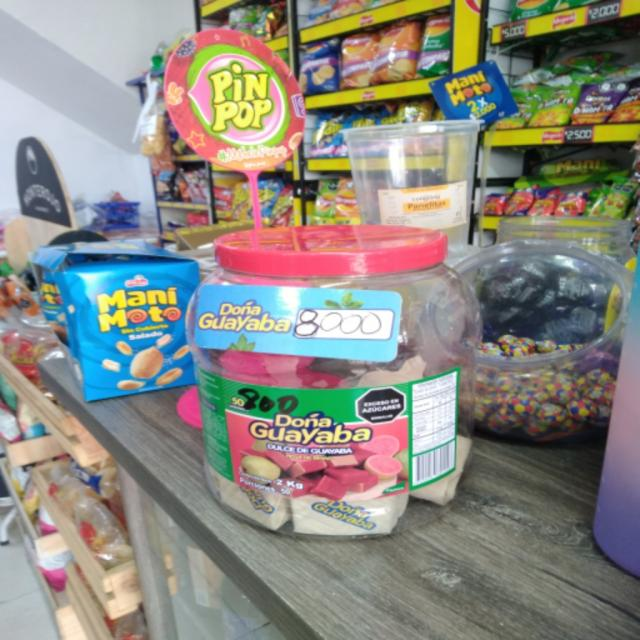Precio: (292, 494, 392, 538), (219, 478, 288, 531), (293, 310, 395, 343)
